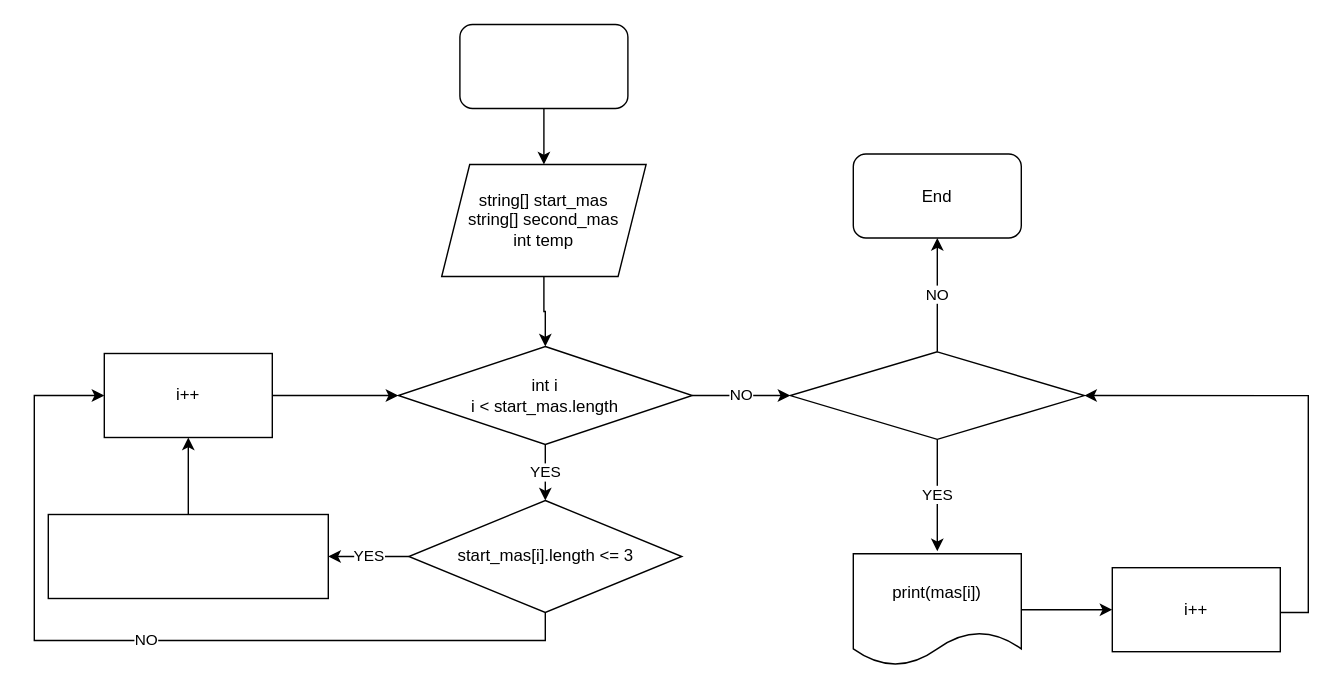
Image size: 1344x690. Some labels were removed from this diagram. The shapes that lost their labels are listed below. From the top down, each one's box as (x1, y1, x2, y2) in pixels, then its label:
(458, 23, 628, 108): Start
(789, 350, 1084, 439): int i i < second_mas.length
(47, 513, 328, 598): second_mas[temp] = start_mas[i] temp++
